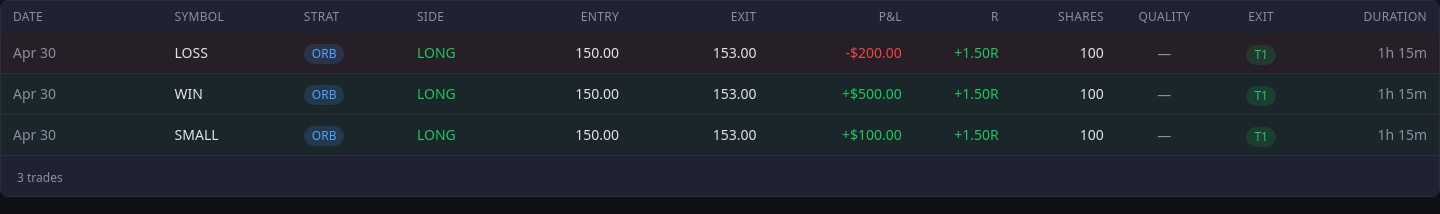
Test case: TradesPage — DEF-073: sortable columns › clicking P&L header sorts trades by P&L
// Click P&L header → ascending sort
Click the column heading with test id "sort-pnl": coordinates (890, 16) [768,1,914,33]
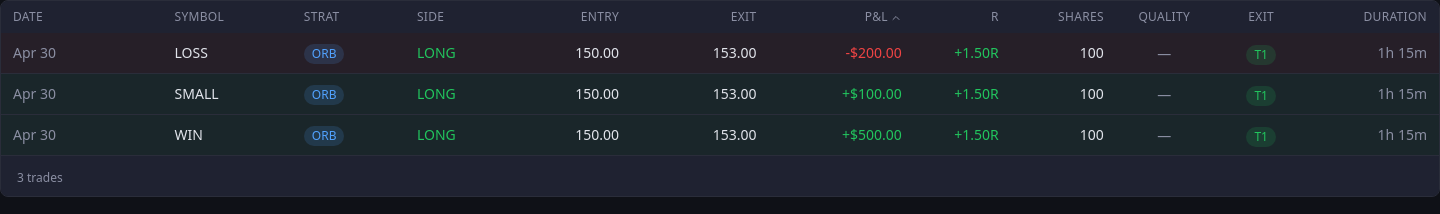
// Click again → descending
Click the column heading with test id "sort-pnl": coordinates (876, 16) [768,1,914,33]
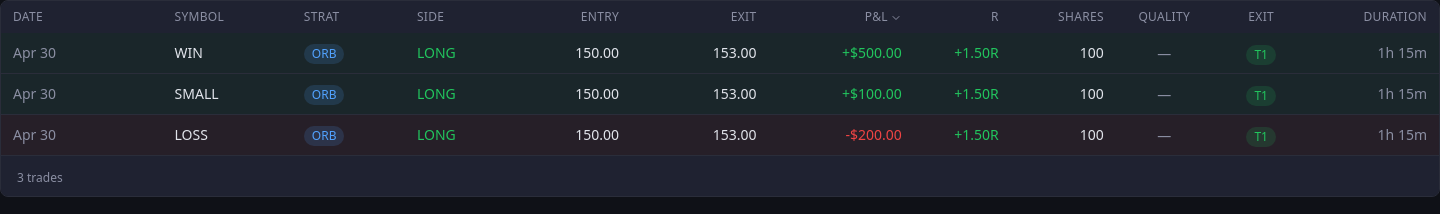
// Click again → clear sort (back to original order)
Click the column heading with test id "sort-pnl": coordinates (876, 16) [768,1,914,33]
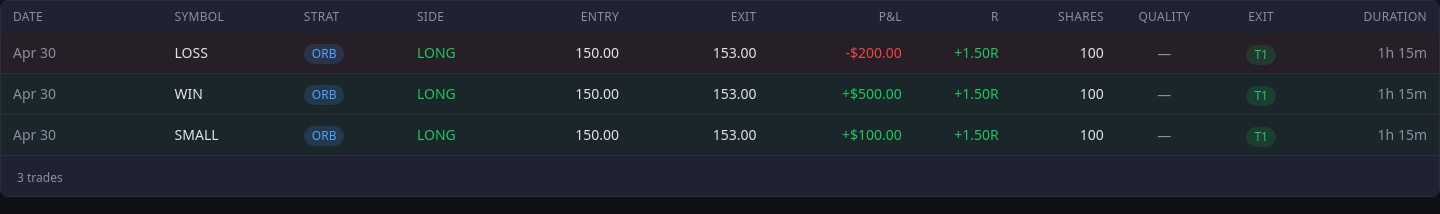
Expected: the icon is gone
